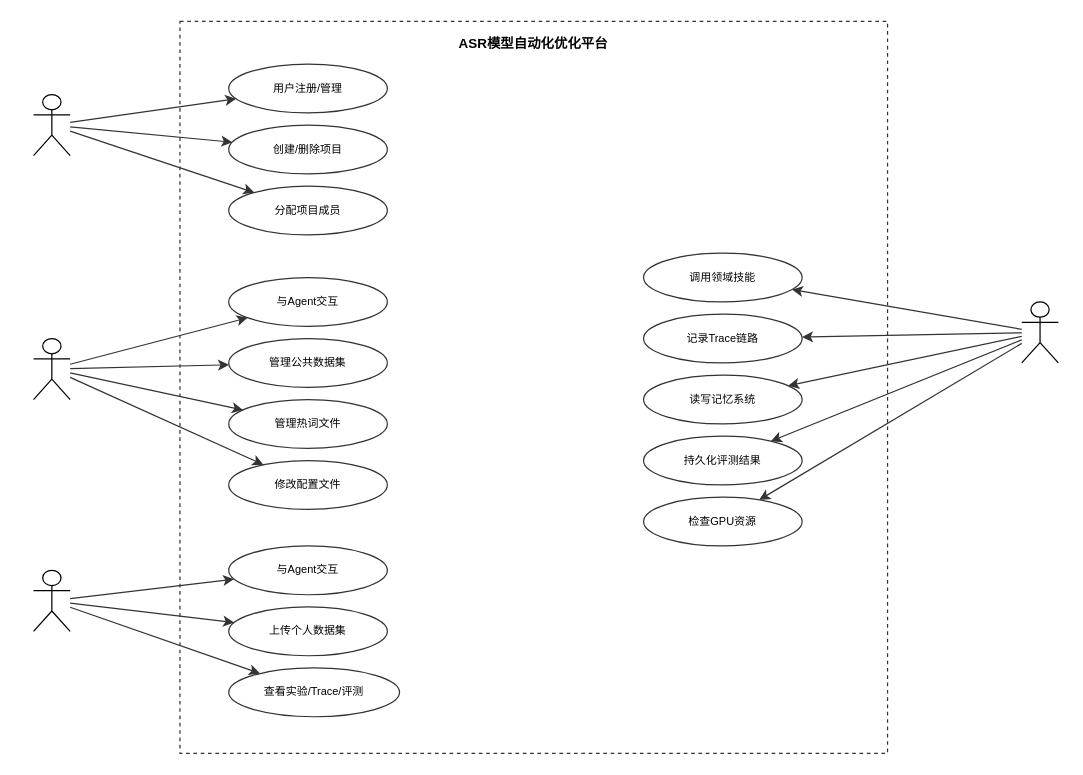
The diagram is 1083 pixels wide and 775 high, and some of its shapes have lost their labels. The shapes that lost their labels are listed below. From the top down, each one's centre as x and y in pixels, then its label:
At (x=51, y=124): "平台管理员".
At (x=1039, y=332): "Agent 决策引擎".
At (x=51, y=368): "项目Owner".
At (x=51, y=600): "项目Member".
